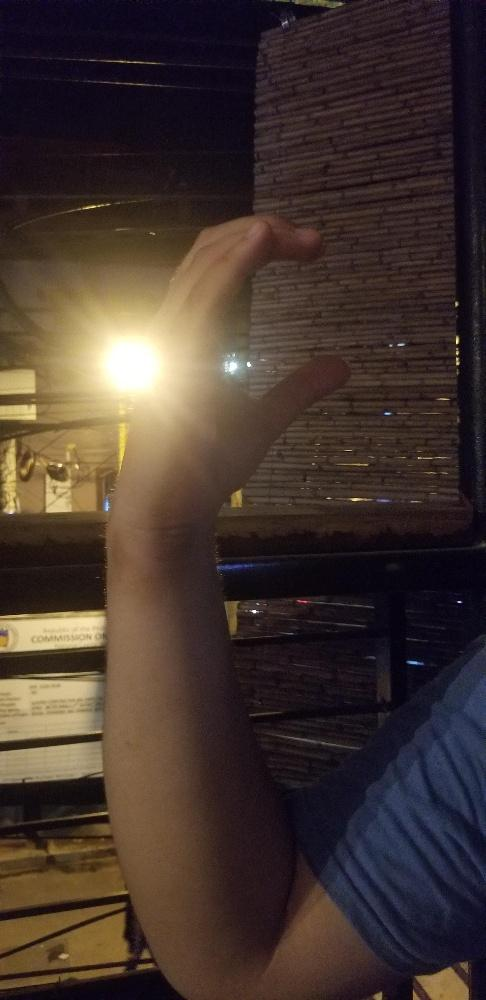c: (147, 214, 349, 491)
